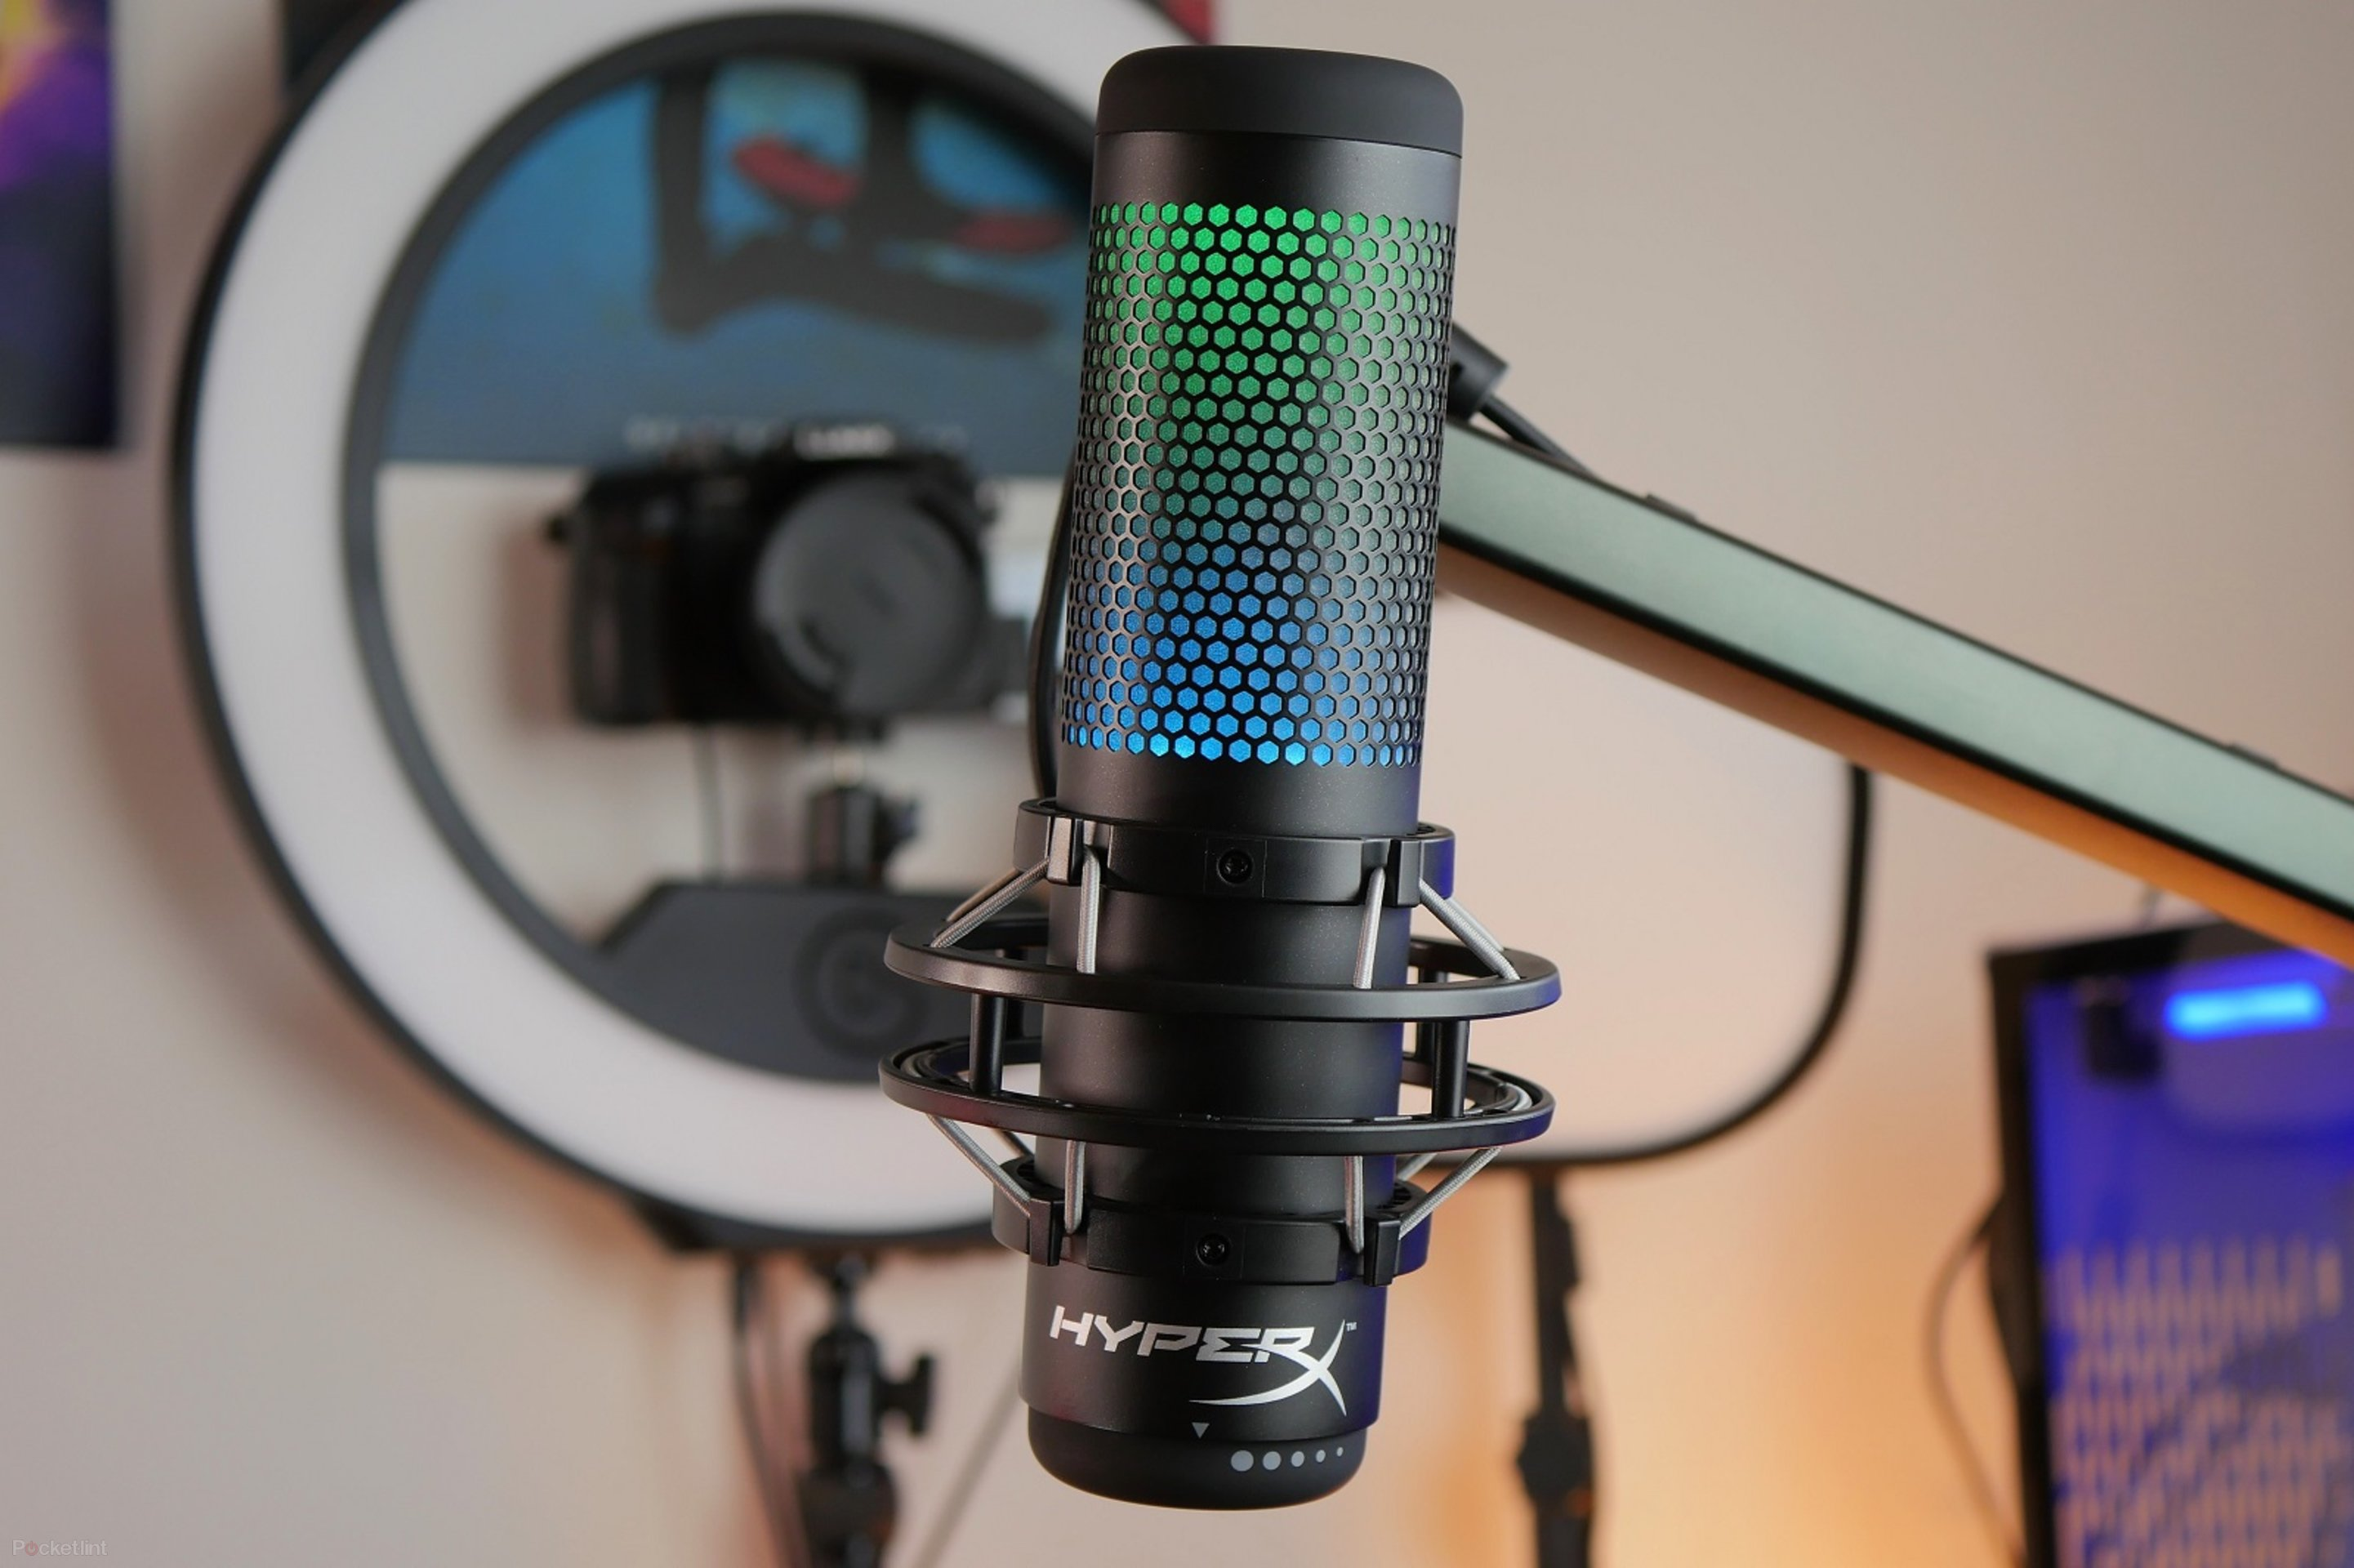microphone: (1017, 38, 1468, 1517)
